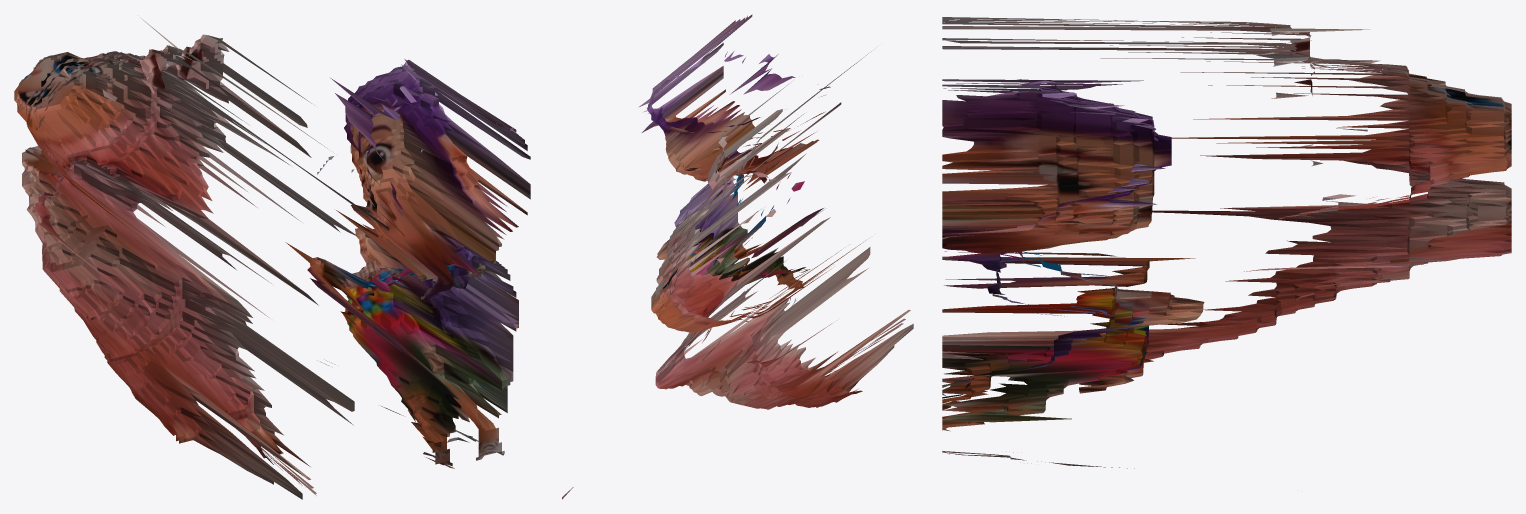
The model's file is frame_00022.glb.
The picture shows the model from 3 angles, left to right: view 1: azimuth 30°, elevation 25°; view 2: azimuth 150°, elevation 25°; view 3: azimuth 270°, elevation 25°; orthographic projection. The views are drawn at different scales.
Visible parts, largest first — view 1: geometry_0; view 2: geometry_0; view 3: geometry_0.
Boxes of the visible parts, x1=… form: geometry_0: x1=14, y1=17, x2=530, y2=499; geometry_0: x1=562, y1=14, x2=913, y2=499; geometry_0: x1=942, y1=17, x2=1511, y2=468.
Size of the model in its own units: 0.0951 by 0.1254 by 0.16.
1 material, 1 textured.
